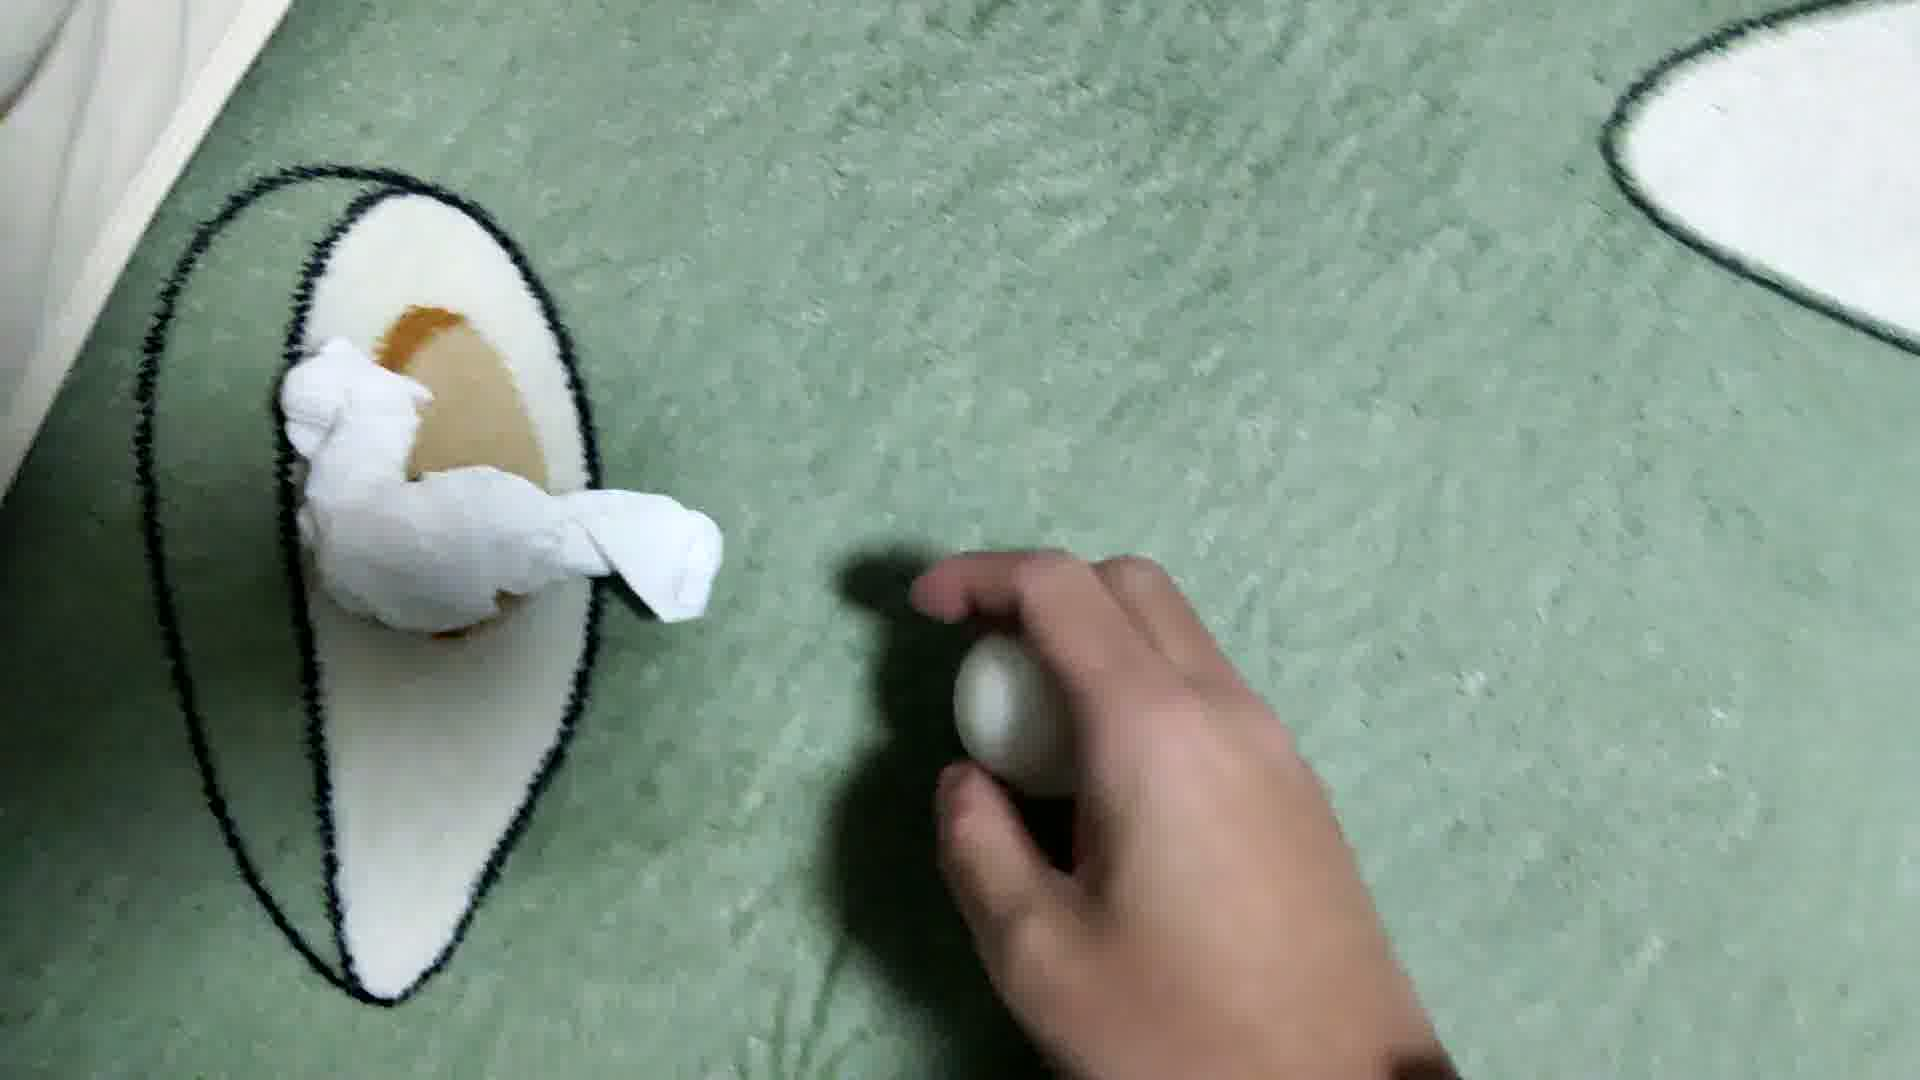Ball: (951, 629, 1109, 787)
